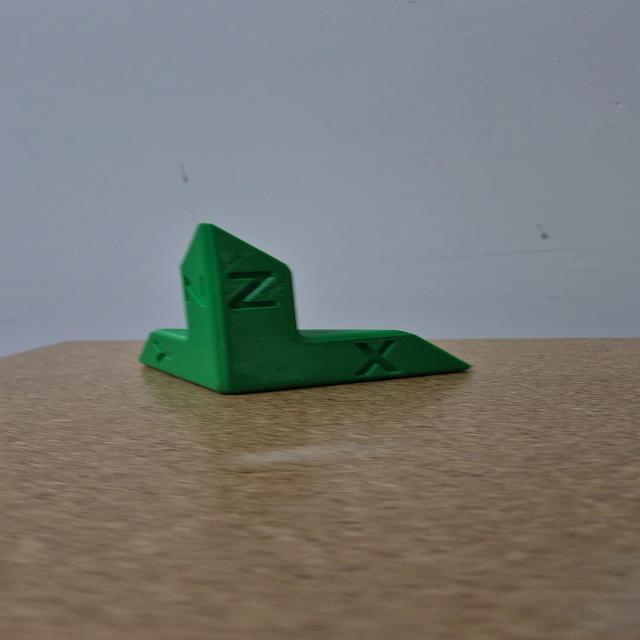objects: (133, 217, 484, 398)
